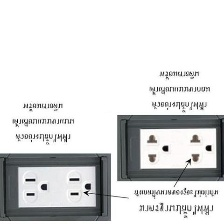three_eye_plug: (115, 112, 224, 182), (0, 153, 110, 221)
